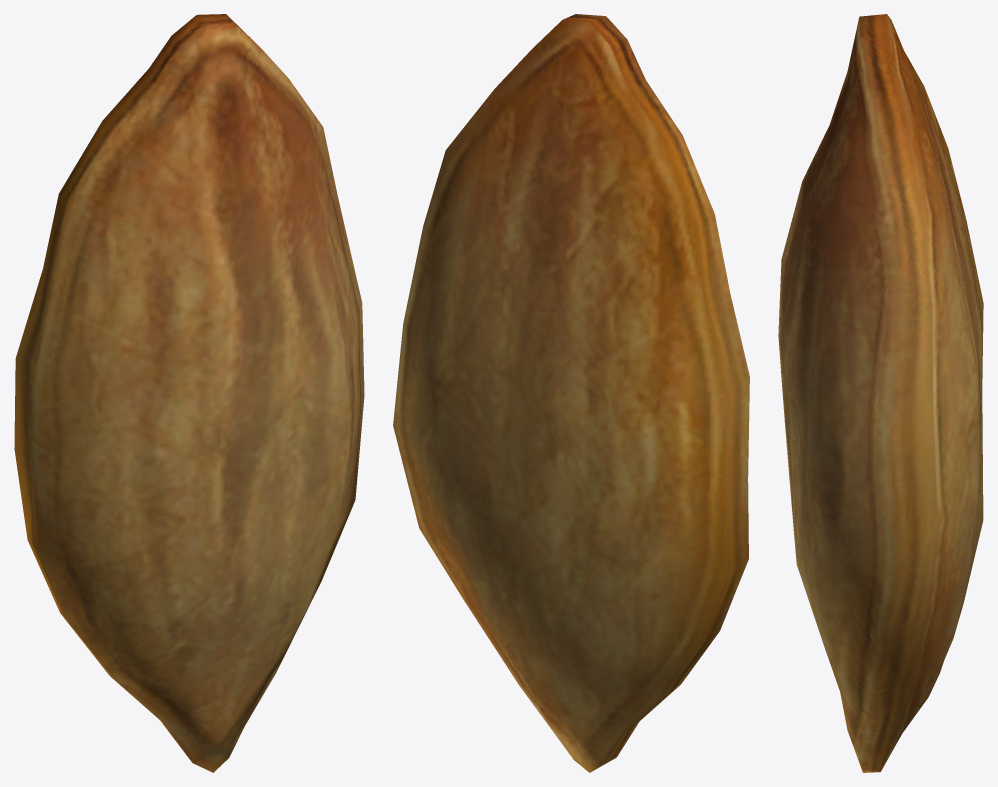
File: seed1.fbx
3 views of the same model, side by side, from view 1: azimuth 30°, elevation 25°; view 2: azimuth 150°, elevation 25°; view 3: azimuth 270°, elevation 25° (orthographic).
Visible parts, largest first — view 1: Generic_plant_seed:Generic_plant_seed_0; view 2: Generic_plant_seed:Generic_plant_seed_0; view 3: Generic_plant_seed:Generic_plant_seed_0.
Part boxes in pixels (x1,y1,x2,y2): Generic_plant_seed:Generic_plant_seed_0: (14,14,364,772); Generic_plant_seed:Generic_plant_seed_0: (393,14,749,772); Generic_plant_seed:Generic_plant_seed_0: (778,14,983,772).
Bounding box in the file's own units: 125 × 270 × 66.48.
Materials: 1 (1 with a texture image).
